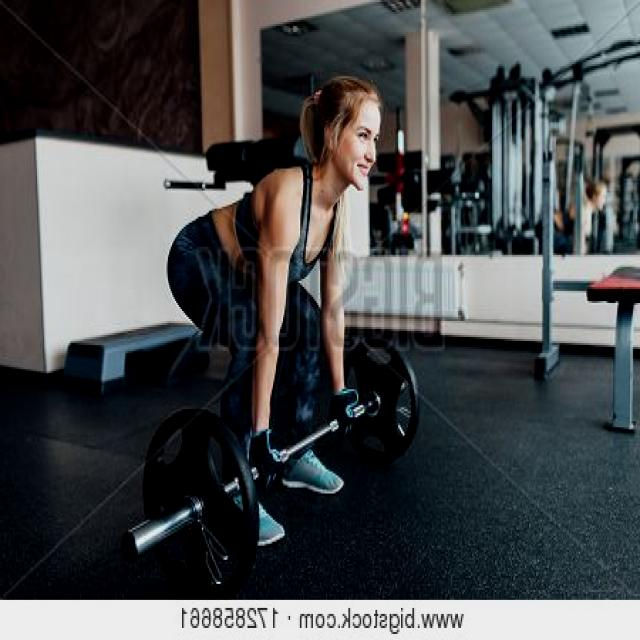barbell_plate_side: (122, 333, 197, 596), (346, 333, 421, 596)
